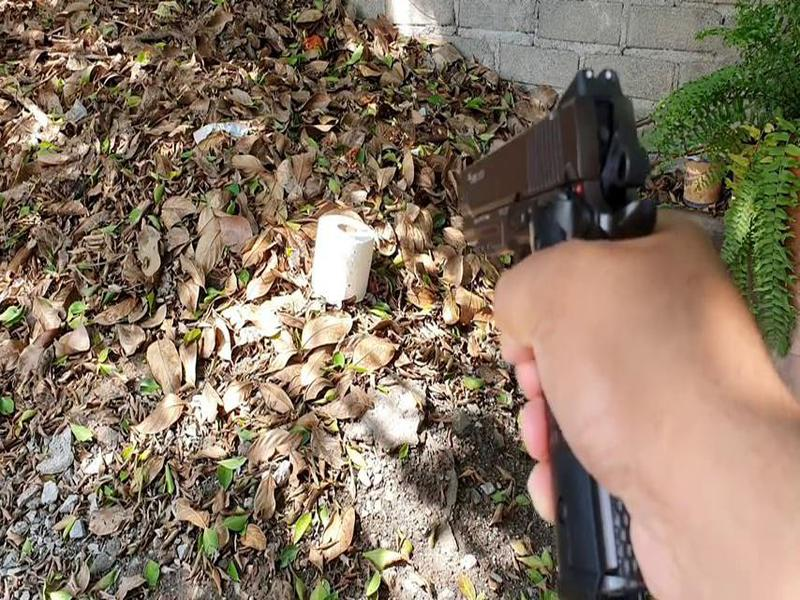Pistola: (423, 45, 675, 548)
